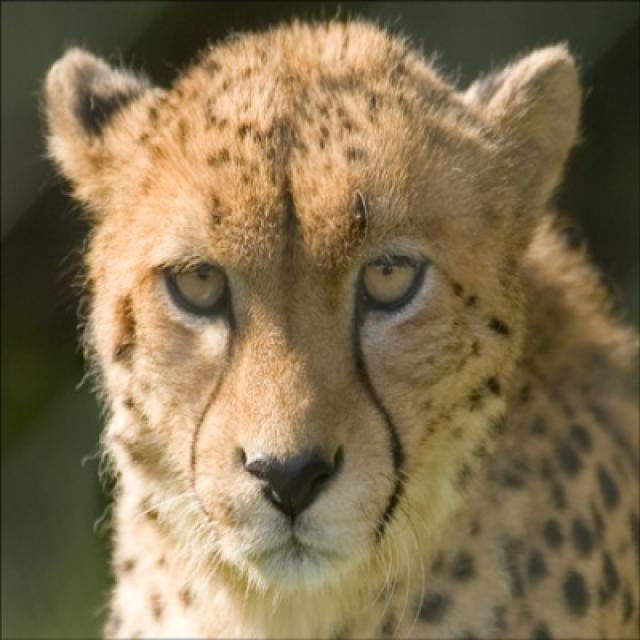Cheetah: (38, 19, 638, 638)
